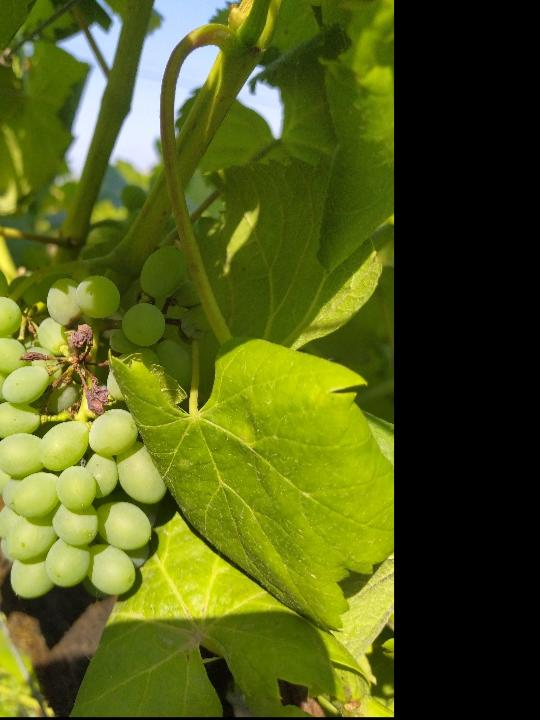grape: (0, 237, 213, 603)
